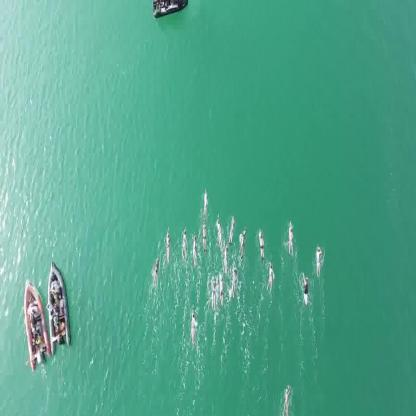Boat: (45, 259, 71, 349), (23, 279, 48, 368)
